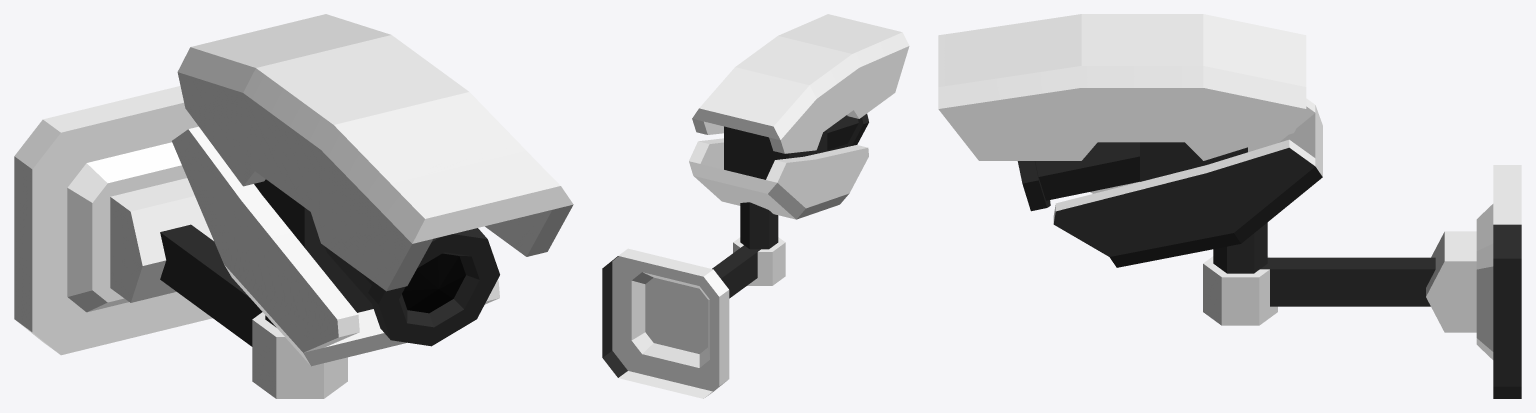
The model's file is SecurityCamera_01.fbx.
3 renders of one model, left to right at view 1: azimuth 30°, elevation 25°; view 2: azimuth 150°, elevation 25°; view 3: azimuth 270°, elevation 25°, orthographic. The views are drawn at different scales.
Parts seen in each view (by area): view 1: SecurityCamera_01; view 2: SecurityCamera_01; view 3: SecurityCamera_01.
Boxes of the visible parts, x1,y1,x2,y2 form: SecurityCamera_01: (14, 14, 573, 398); SecurityCamera_01: (602, 14, 909, 398); SecurityCamera_01: (938, 14, 1521, 398).
Bounding box in the file's own units: 36.24 × 68.4 × 110.
